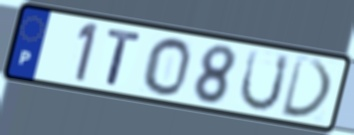1: (74, 21, 99, 84)
8: (192, 43, 238, 107)
D: (279, 54, 335, 121)
O: (141, 36, 193, 98)
T: (105, 27, 145, 89)
U: (237, 47, 292, 113)
